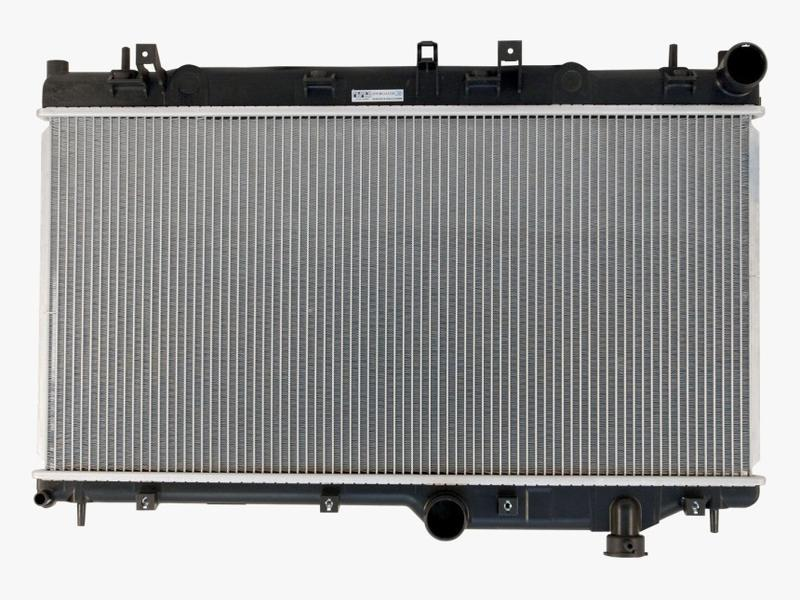c1: (680, 491, 720, 538)
c10: (556, 67, 586, 98)
c11: (462, 40, 525, 102)
c12: (414, 39, 442, 104)
c13: (302, 70, 339, 102)
c14: (105, 43, 170, 101)
c2: (604, 495, 649, 562)
c3: (495, 494, 522, 520)
c4: (420, 492, 472, 546)
c5: (317, 492, 342, 515)
c6: (132, 488, 159, 515)
c7: (30, 483, 88, 532)
c8: (716, 40, 769, 99)
c9: (659, 43, 701, 103)
